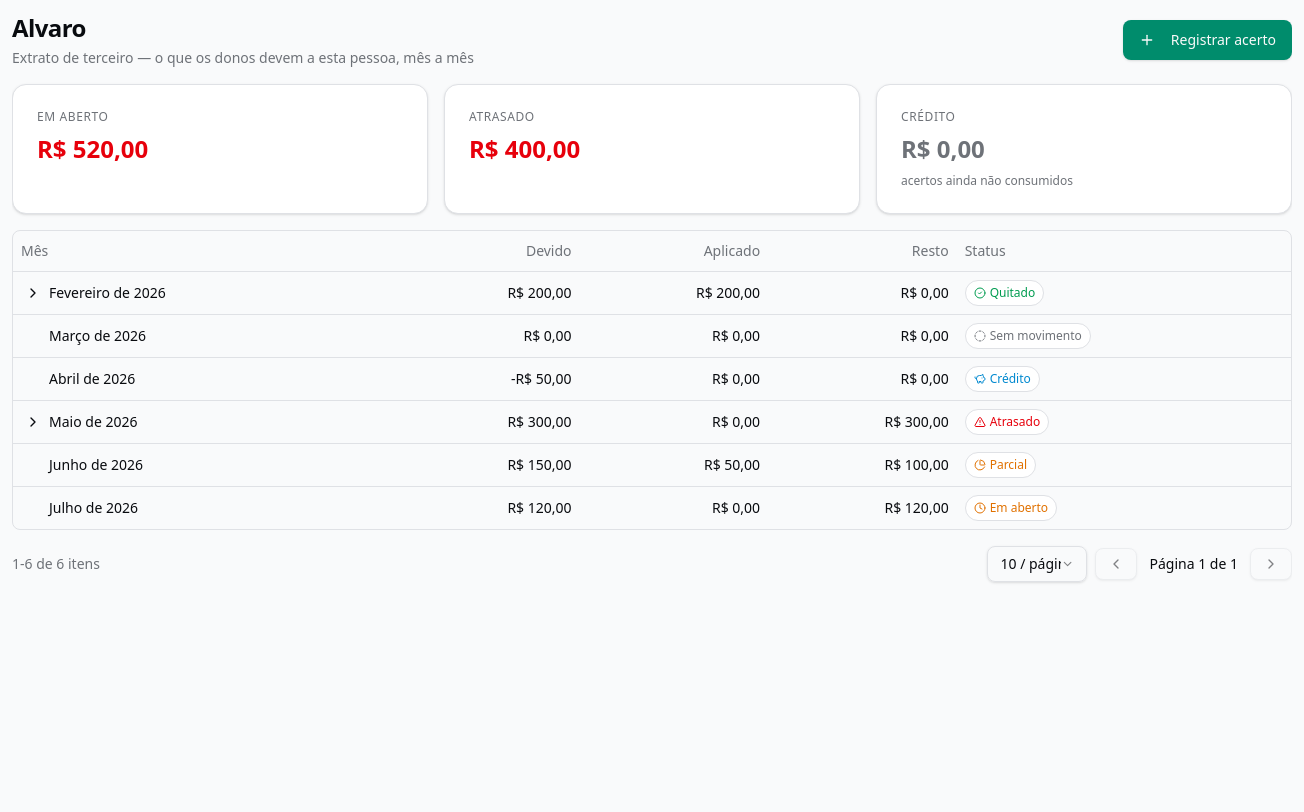
ThirdPartyStatementPage (extrato mês a mês) › o detalhe expansível mostra os itens (pagamentos e compras) que compõem o mês
Expected: the text "Material de limpeza" is not shown
Click the button named "detalhes de fevereiro de 2026". click: [33, 292]
box: [21,280,45,304]
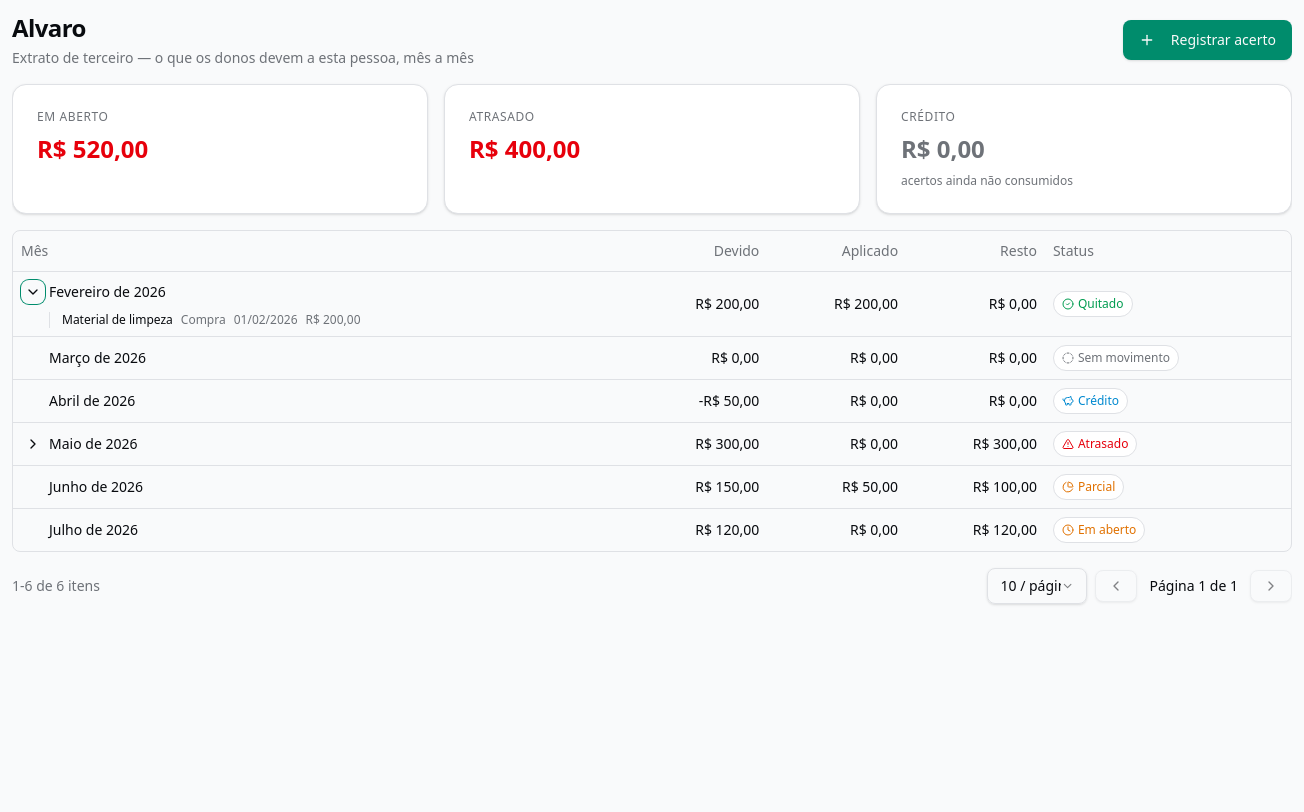
Now the text "Material de limpeza" is shown, box [62,312,173,328]
Now the text "Compra" is shown, box [181,312,226,328]
